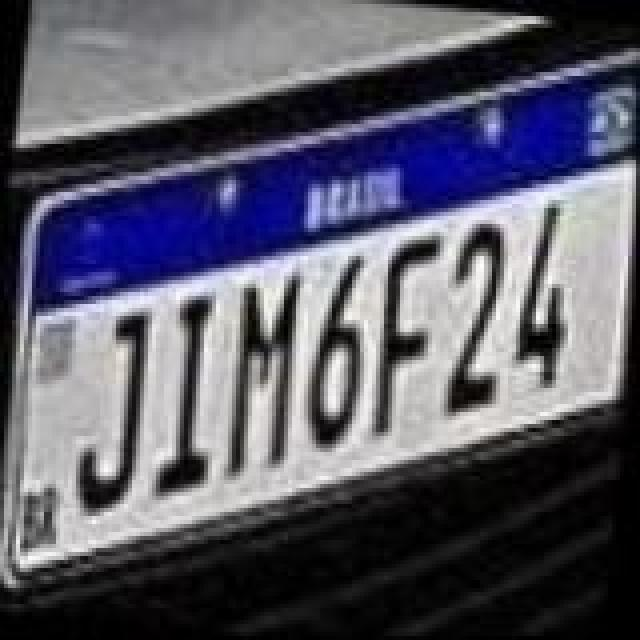2: (434, 218, 518, 422)
4: (508, 200, 588, 392)
6: (298, 250, 382, 458)
F: (366, 230, 450, 442)
I: (152, 290, 236, 502)
J: (68, 304, 160, 520)
M: (220, 268, 312, 488)
